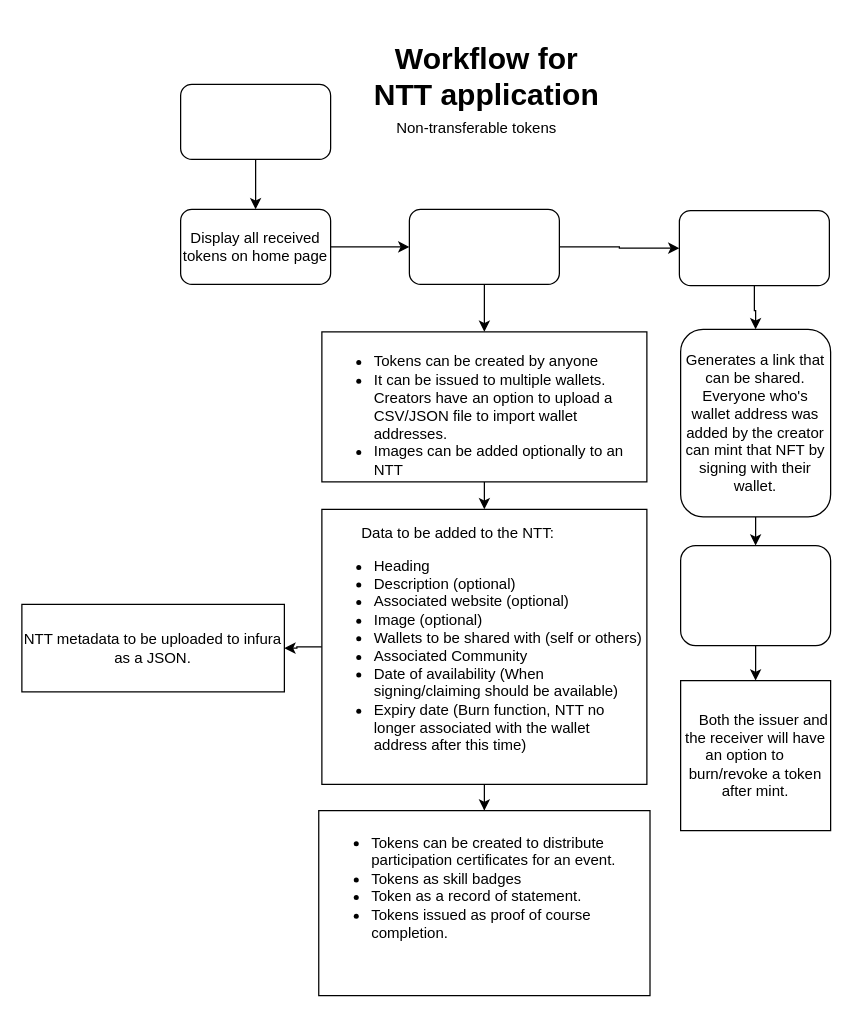
Image size: 853x1018. Some labels were removed from this diagram. Here are the shapes that lost their labels. From the top down, the centre of each, then its label:
At point (255, 121): "Login (using MetaMask)".
At point (483, 246): "Create a new token".
At point (753, 247): "Assign to other wallets".
At point (755, 595): "Upon claiming their NTTs, the NTTs can be viewed on their profile.".
